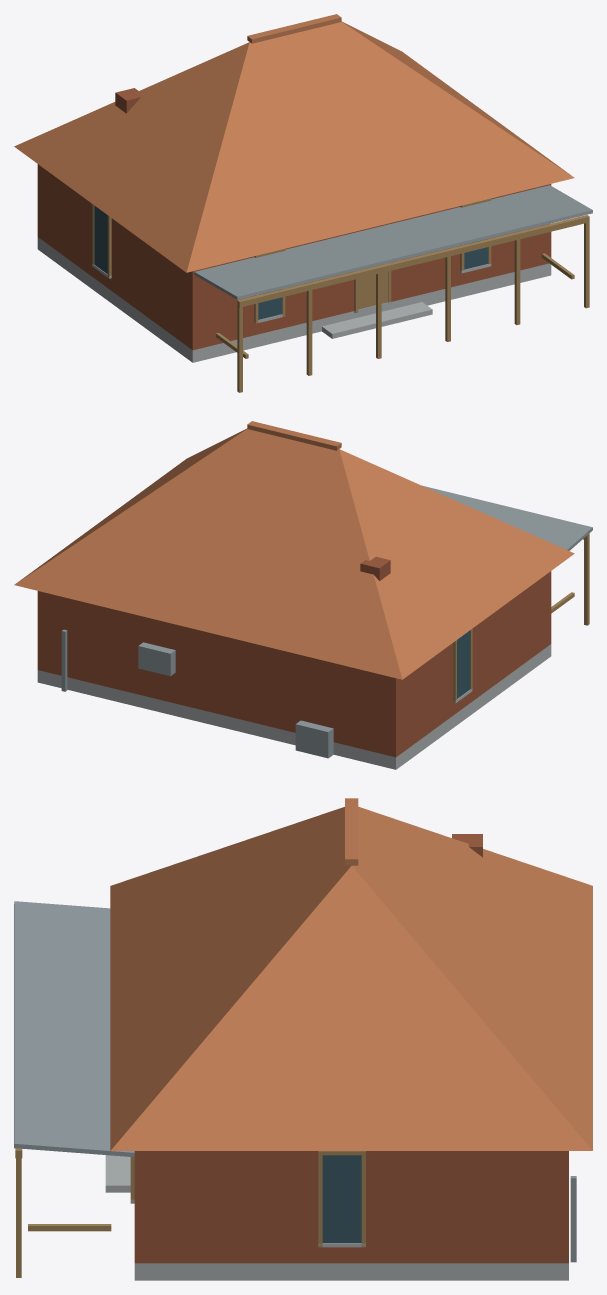
File: cottage-federation.glb
The picture shows the model from 3 angles, top to bottom: view 1: azimuth 30°, elevation 25°; view 2: azimuth 150°, elevation 25°; view 3: azimuth 270°, elevation 25°; orthographic projection. The views are drawn at different scales.
Parts seen in each view (by area): view 1: roof-hip, wall-envelope, verandah-roof-plane, ground-contact-plinth, verandah-front-beam, entrance-step, cottage-federation-ridge-cap, opening-front-door, opening-west-sash, verandah-post-01, verandah-post-04, verandah-post-00 (+3 smaller); view 2: roof-hip, wall-envelope, ground-contact-plinth, verandah-roof-plane, rear-service-bin-bank, rear-service-ac-unit, cottage-federation-ridge-cap, opening-west-sash, verandah-post-00, chimney-00; view 3: roof-hip, wall-envelope, verandah-roof-plane, ground-contact-plinth, opening-east-sash, entrance-step, cottage-federation-ridge-cap, verandah-post-05, verandah-balustrade-east.
Part boxes in pixels (box(x1,y1,x2,y2)): roof-hip: box(14, 21, 574, 272); wall-envelope: box(37, 164, 551, 350); verandah-roof-plane: box(194, 185, 592, 299); ground-contact-plinth: box(37, 237, 551, 362); verandah-front-beam: box(237, 215, 589, 307); entrance-step: box(322, 302, 432, 338); cottage-federation-ridge-cap: box(247, 14, 341, 43); opening-front-door: box(358, 263, 388, 309); opening-west-sash: box(94, 205, 107, 273); verandah-post-01: box(306, 290, 312, 375); verandah-post-04: box(514, 239, 520, 324); verandah-post-00: box(237, 305, 242, 392); roof-hip: box(14, 428, 574, 679); wall-envelope: box(37, 571, 551, 757); ground-contact-plinth: box(37, 644, 551, 769); verandah-roof-plane: box(422, 485, 592, 550); rear-service-bin-bank: box(295, 720, 333, 758); rear-service-ac-unit: box(138, 642, 175, 676); cottage-federation-ridge-cap: box(247, 421, 341, 450); opening-west-sash: box(457, 630, 470, 698); verandah-post-00: box(584, 536, 589, 625); chimney-00: box(360, 556, 390, 580); roof-hip: box(110, 806, 592, 1150); wall-envelope: box(134, 1151, 568, 1263); verandah-roof-plane: box(14, 901, 134, 1157); ground-contact-plinth: box(134, 1263, 568, 1280); opening-east-sash: box(322, 1155, 361, 1242); entrance-step: box(105, 1155, 130, 1192); cottage-federation-ridge-cap: box(345, 798, 358, 865); verandah-post-05: box(16, 1155, 21, 1277); verandah-balustrade-east: box(28, 1224, 111, 1231).
Size of the model in its own units: 13 by 7.54 by 12.
